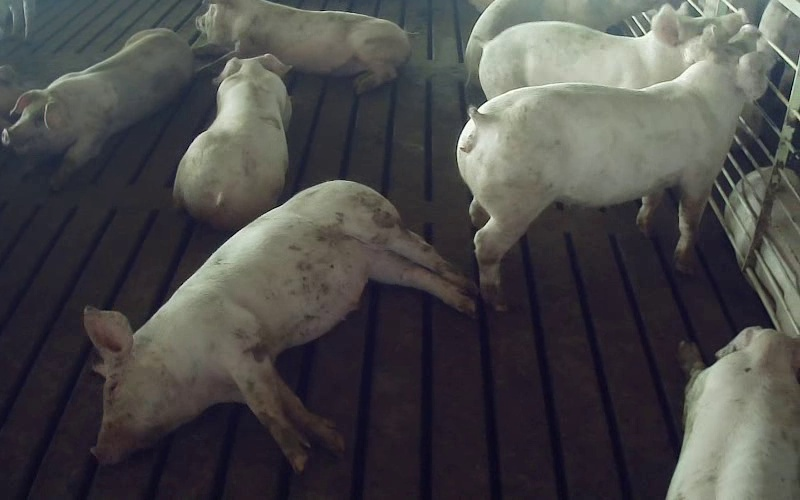pig: (2, 29, 192, 189), (479, 5, 744, 98), (666, 326, 799, 499), (173, 54, 291, 229), (192, 0, 410, 92)
